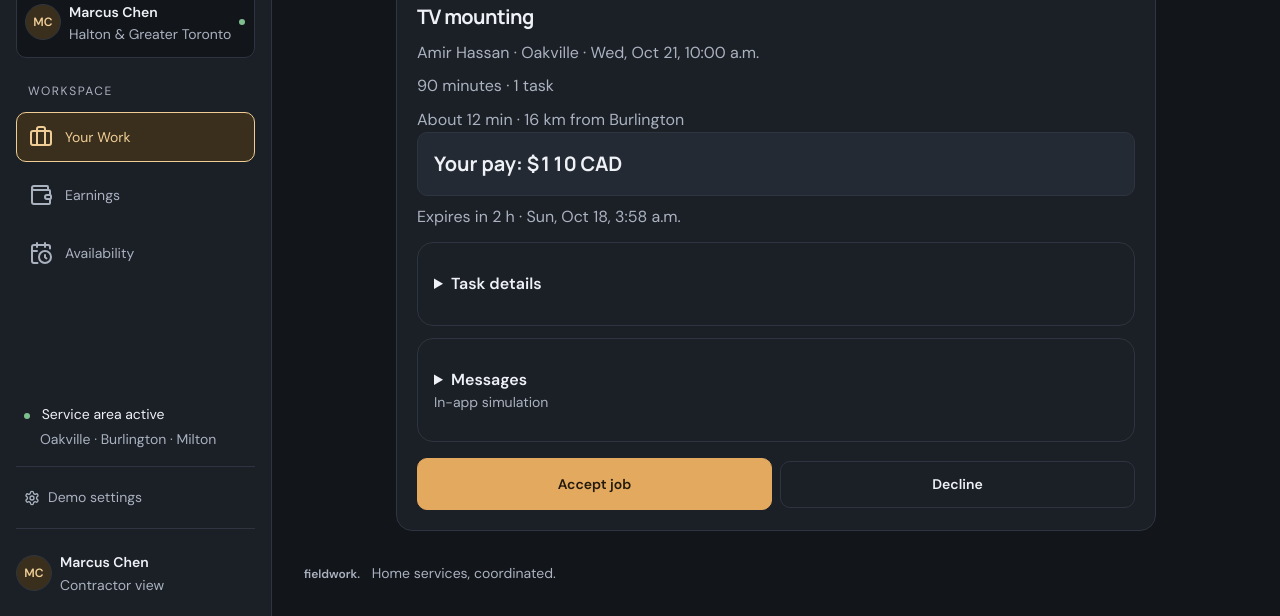
Contractor workspace › accepts a job
The image size is (1280, 616).
(page scrolled)
What coordinates should you click on to do the following:
click the button "Accept job"
I would click on:
 (594, 484)
Its box is 417,458 -> 772,510.
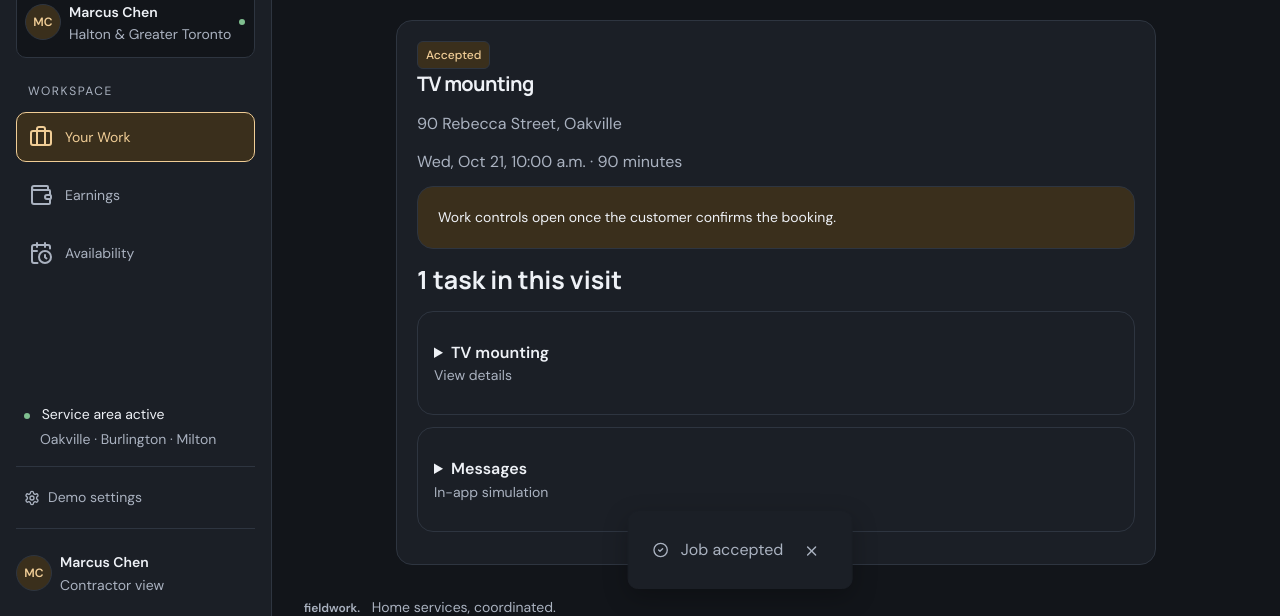
Check: the text "Job accepted" is shown, box 628,511 -> 852,589
Check: the button "Accept job" is gone
Check: the heading "1 task in this visit" is shown, box 417,262 -> 622,297
